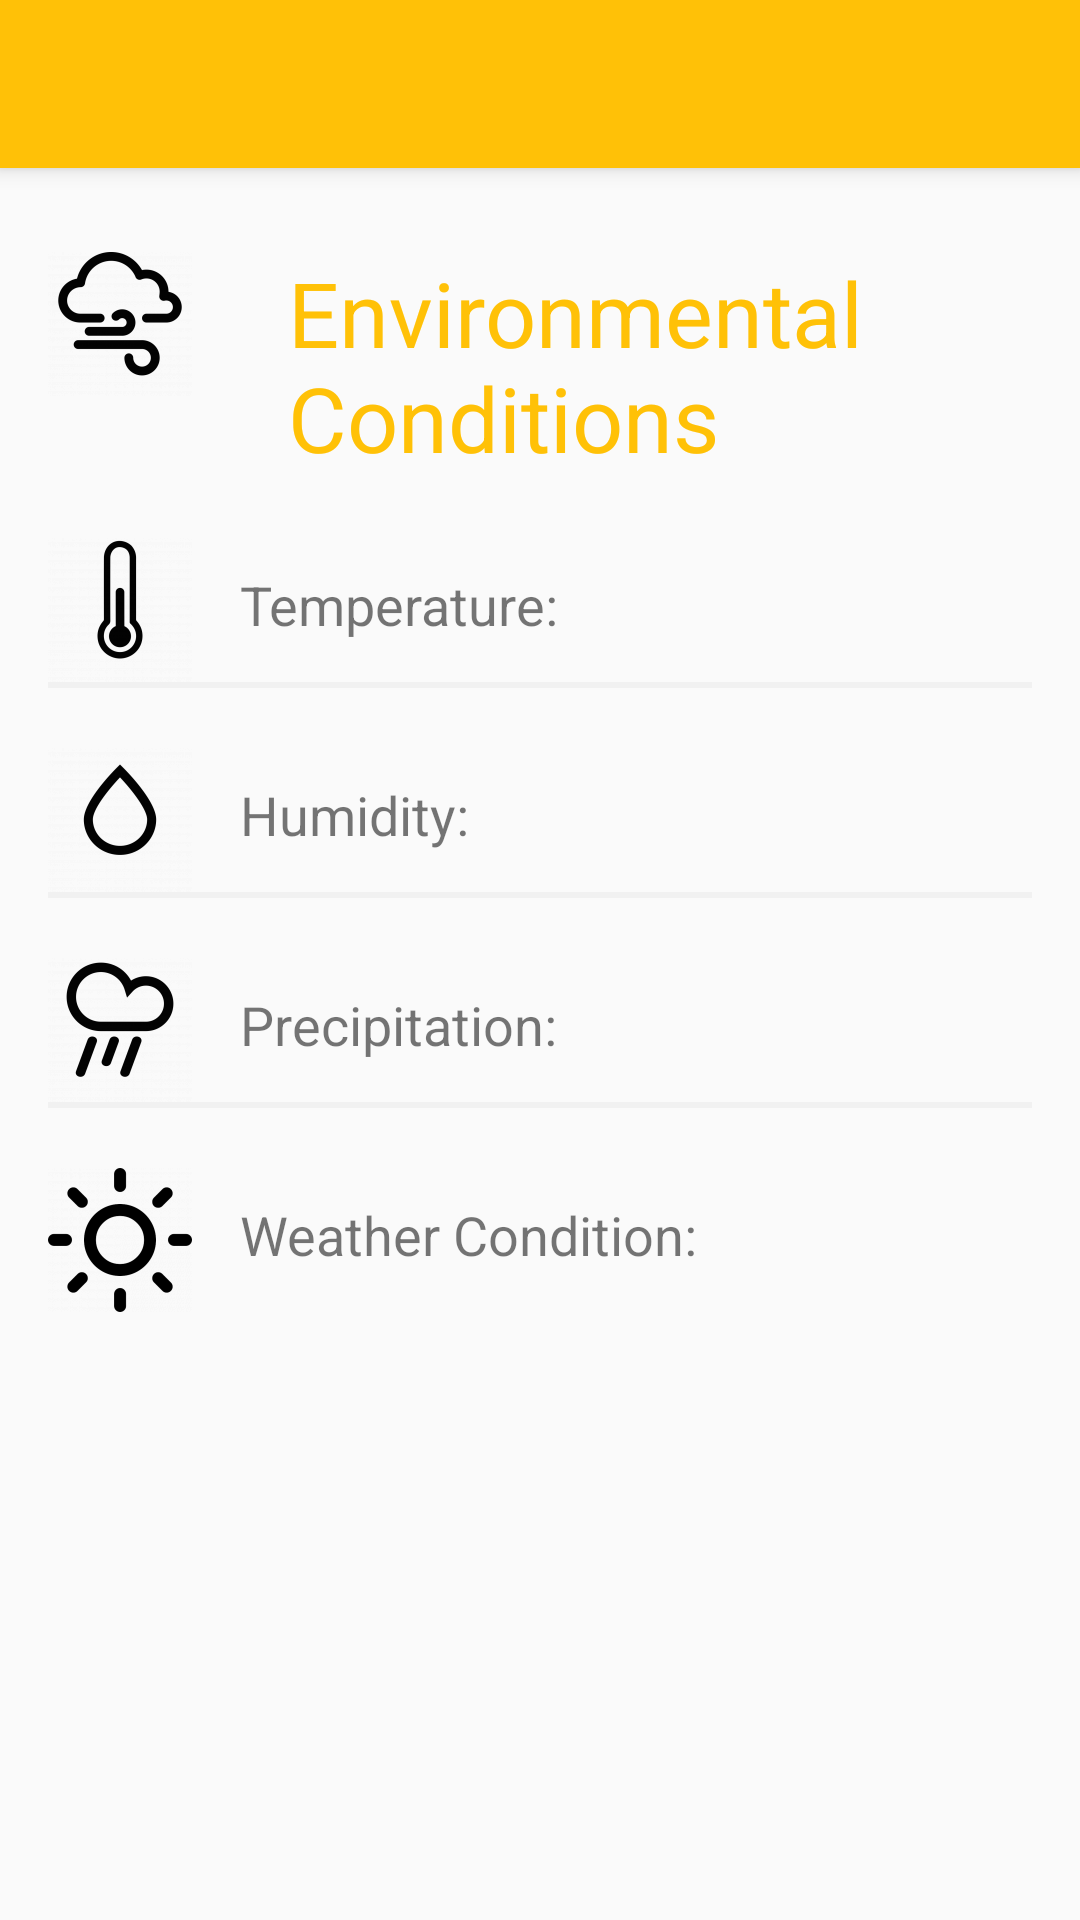

Where icons sit on this 1080x1920 app screen, as (x1, y1, x2, y2):
sun: (48, 1168, 192, 1312)
